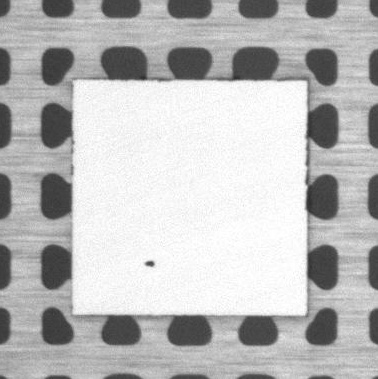DIE_INK: (144, 260, 156, 269)
